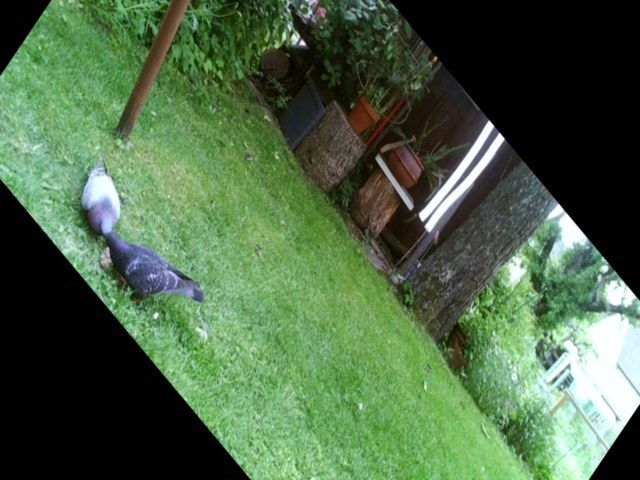Pigeon: (97, 228, 209, 325), (78, 154, 123, 239)
